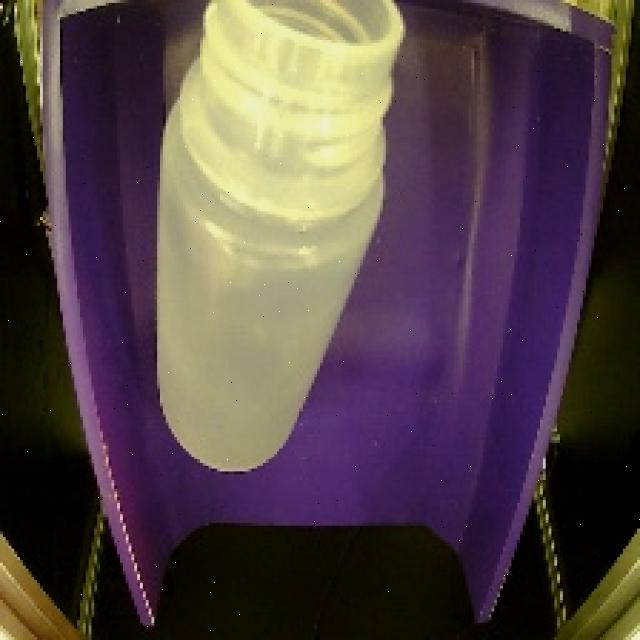plastic: (147, 0, 414, 501)
